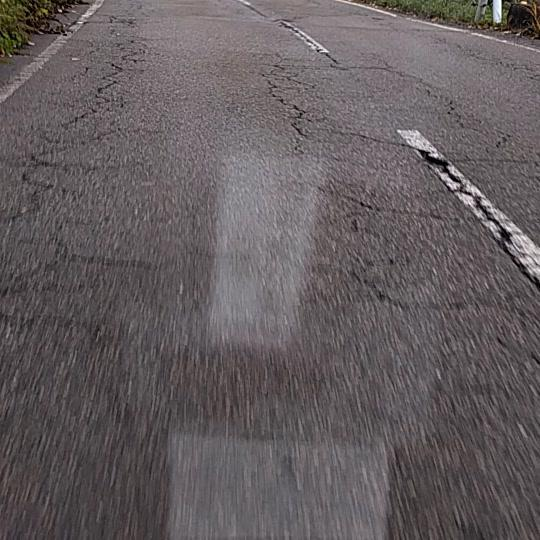D20: (256, 49, 539, 325), (0, 23, 150, 321)
